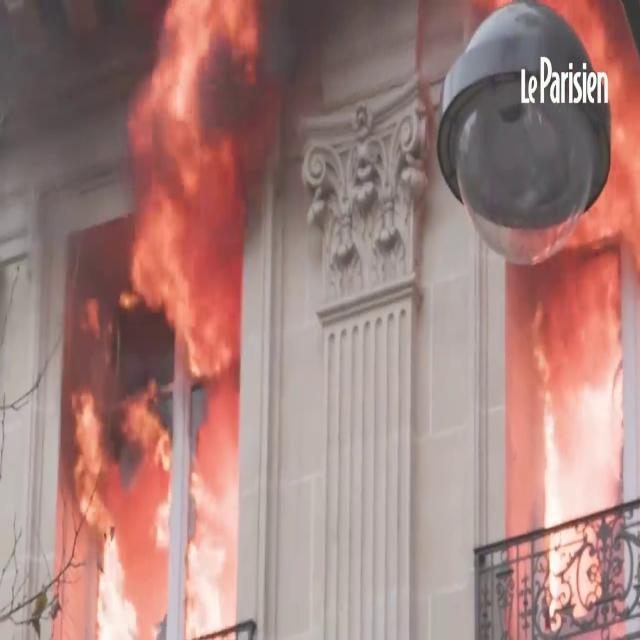Fire: (522, 11, 640, 630), (116, 2, 256, 370), (53, 364, 243, 634)
